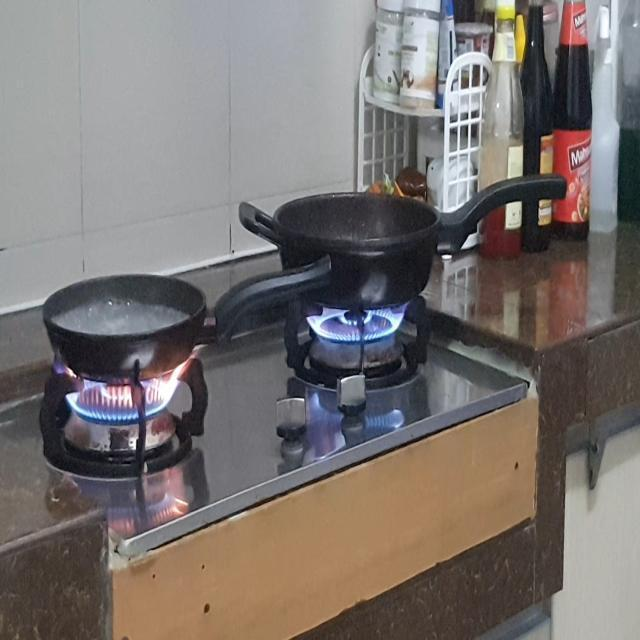smoke: (58, 352, 195, 423), (286, 290, 432, 352)
